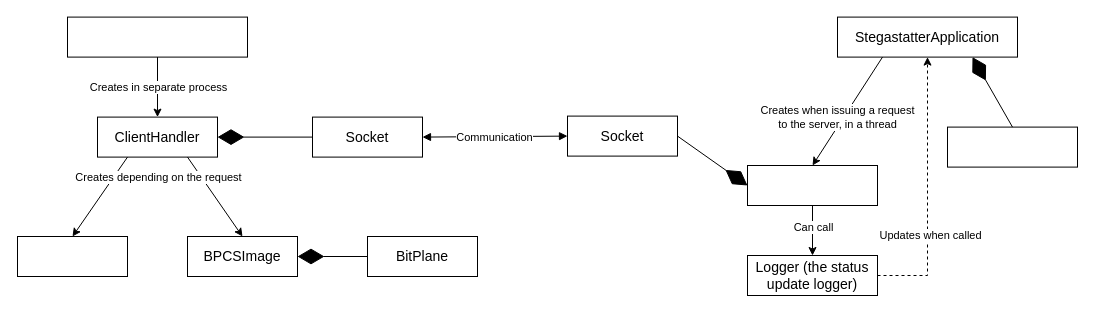
This 1095x314 diagram has some shape labels left out. Each missing label, with the centre of its shape:
ClientConnection: point 812,185
LSBImage: point 72,256
QMainWindow: point 1012,146
SteganographyServer: point 157,36
